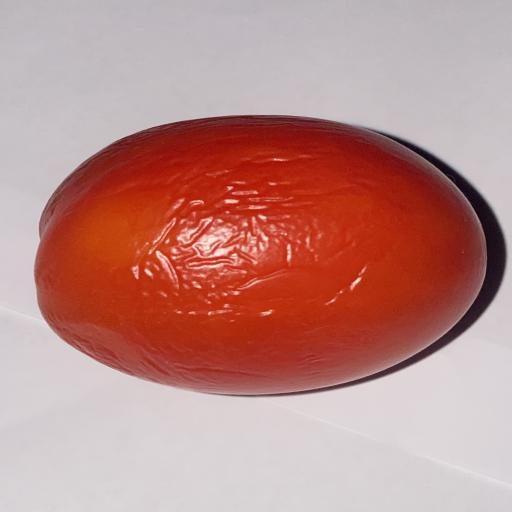spoiled: (36, 116, 486, 394)
